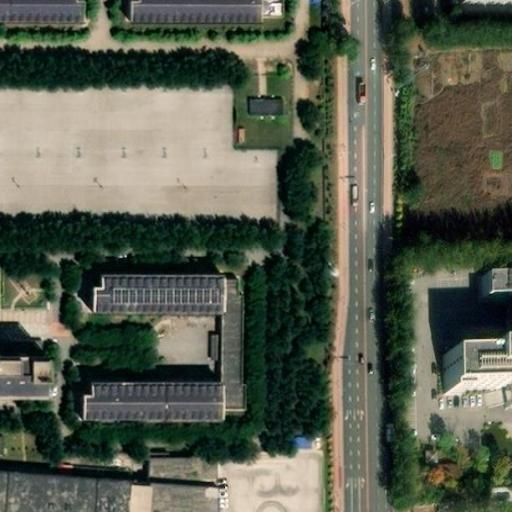building: (87, 402, 227, 444), (137, 3, 267, 40), (217, 289, 250, 421), (90, 289, 217, 323), (450, 348, 512, 390), (142, 450, 219, 480), (249, 108, 287, 128), (481, 279, 512, 303), (289, 431, 313, 447), (504, 391, 512, 404)
